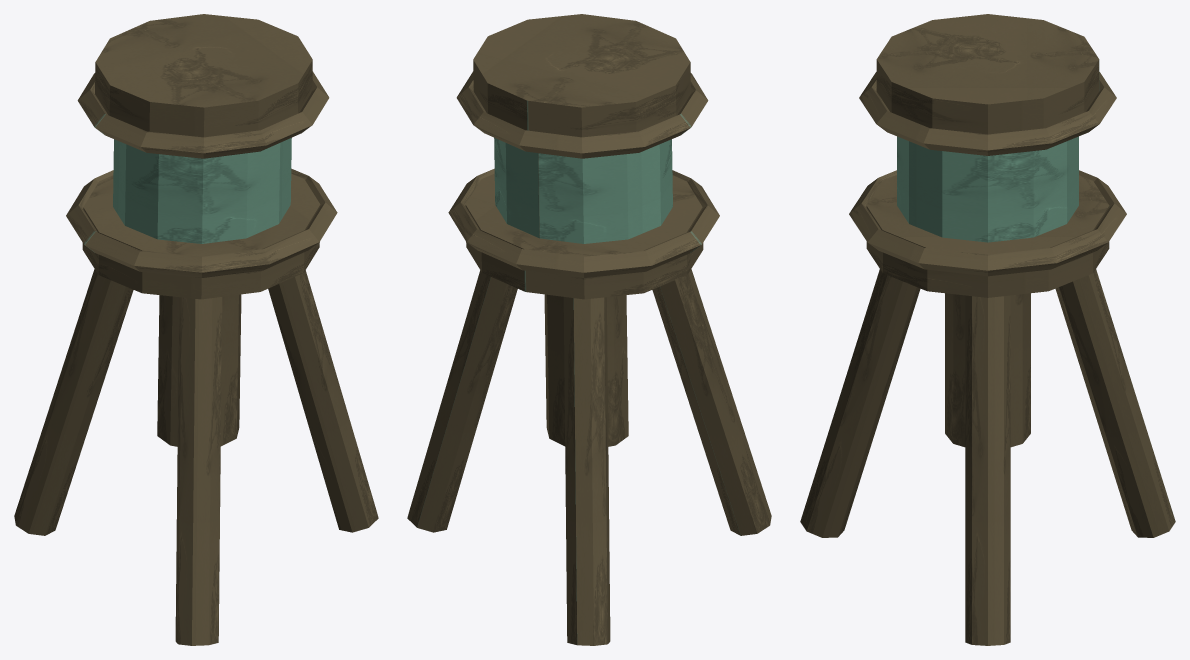
The model's file is sentry-beacon.glb.
The picture shows the model from 3 angles, left to right: view 1: azimuth 30°, elevation 25°; view 2: azimuth 150°, elevation 25°; view 3: azimuth 270°, elevation 25°; orthographic projection. The views are drawn at different scales.
Parts seen in each view (by area): view 1: SentryBeacon; view 2: SentryBeacon; view 3: SentryBeacon.
Boxes of the visible parts, x1,y1,x2,y2 form: SentryBeacon: (14,14,378,645); SentryBeacon: (407,14,771,645); SentryBeacon: (800,14,1175,645).
Size of the model in its own units: 0.5783 by 0.9591 by 0.631.
Materials: 1 (1 with a texture image).
